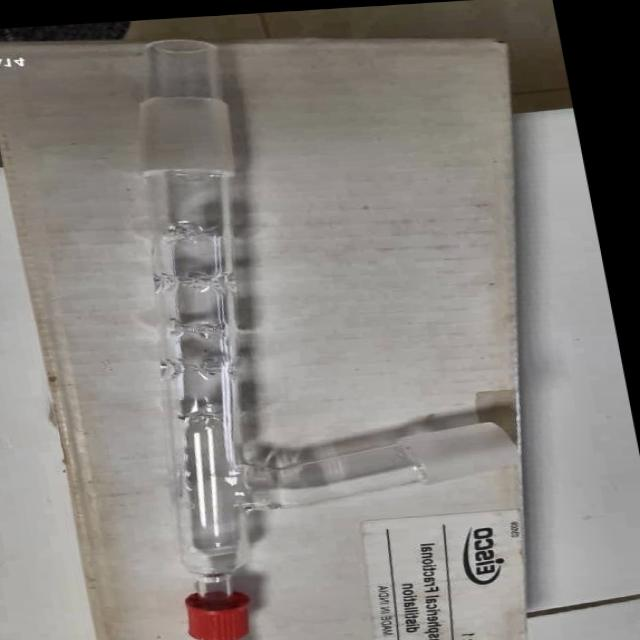Atmospherical Fractional Distillation: (48, 18, 560, 640)
